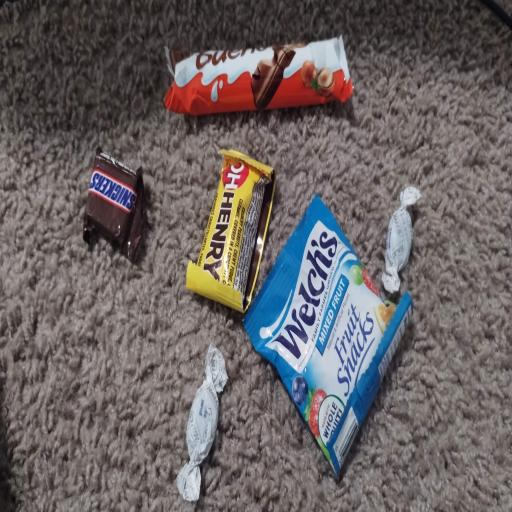chocolate: (244, 196, 412, 473), (165, 37, 352, 114), (187, 150, 274, 311), (176, 345, 227, 500), (83, 148, 143, 260), (382, 187, 420, 292)
